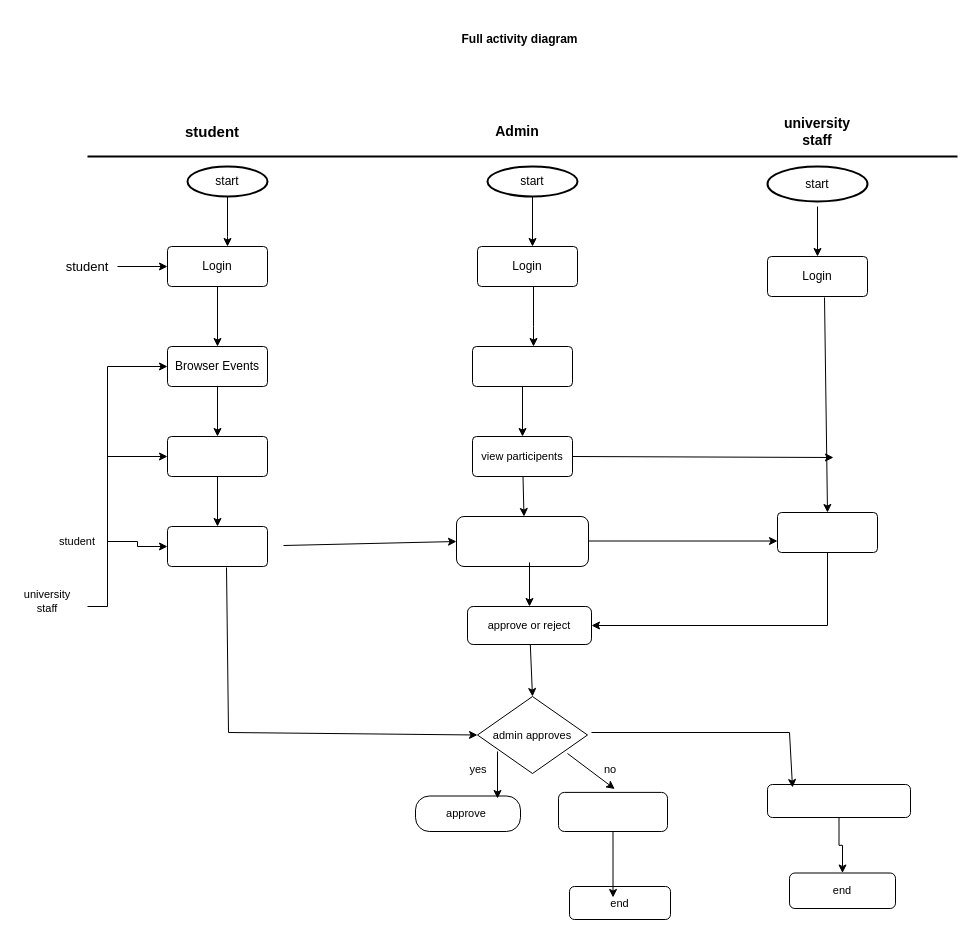
The diagram is 975 pixels wide and 937 high, and some of its shapes have lost their labels. Here are the shapes that lost their labels. From the top down, the centre of each, then its label:
At point 522,366: "Create/Edit Event".
At point 217,456: "select events".
At point 217,546: "submit registration".
At point 522,541: "approve or reject?".
At point 827,532: "view products".
At point 613,811: "reject".
At point 838,801: "view confirmation".
